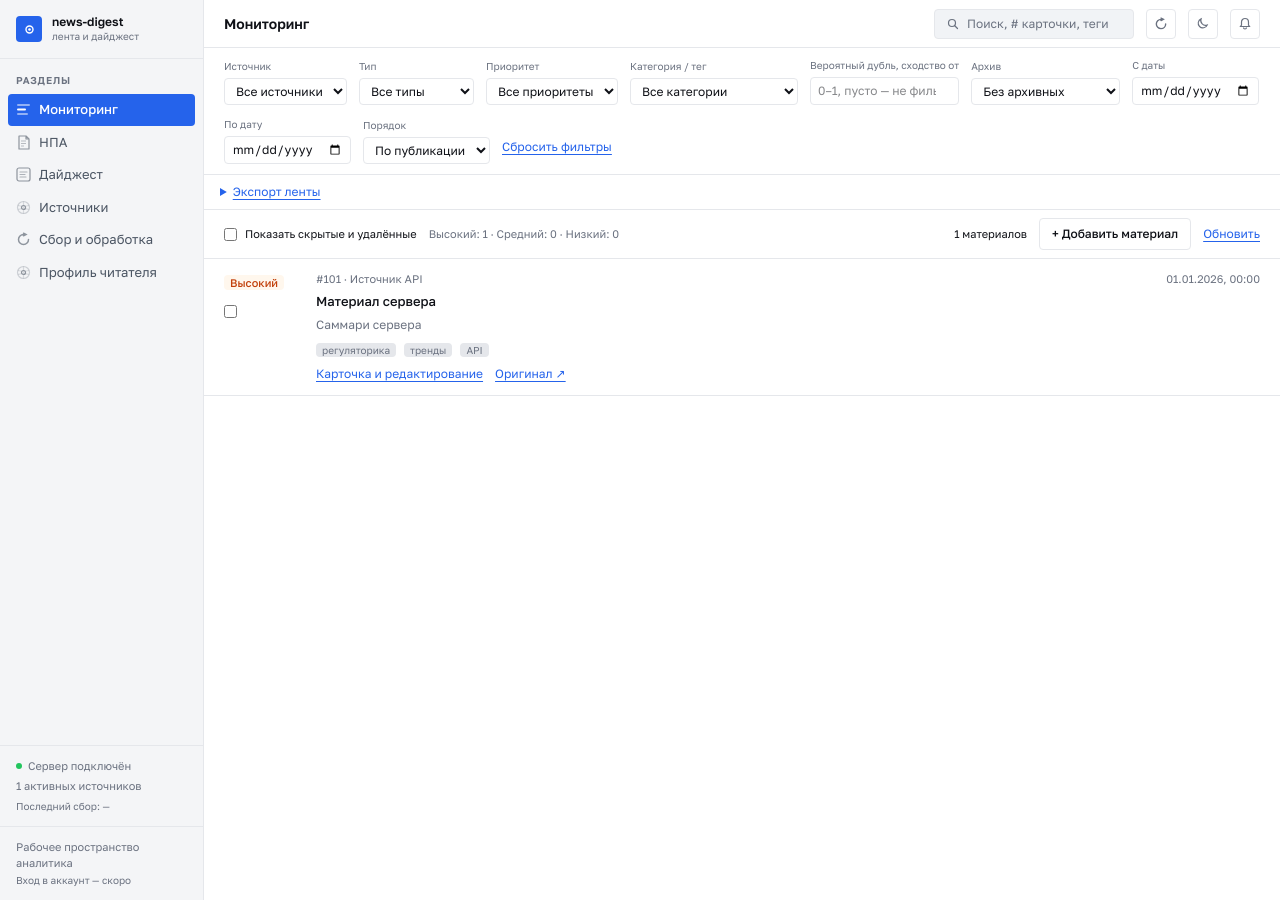
Scenario: server-side feed filters and pagination › does not treat failed bulk updates as successful
Click the checkbox named "Выбрать материал 101": (230, 311) [224, 304, 237, 318]
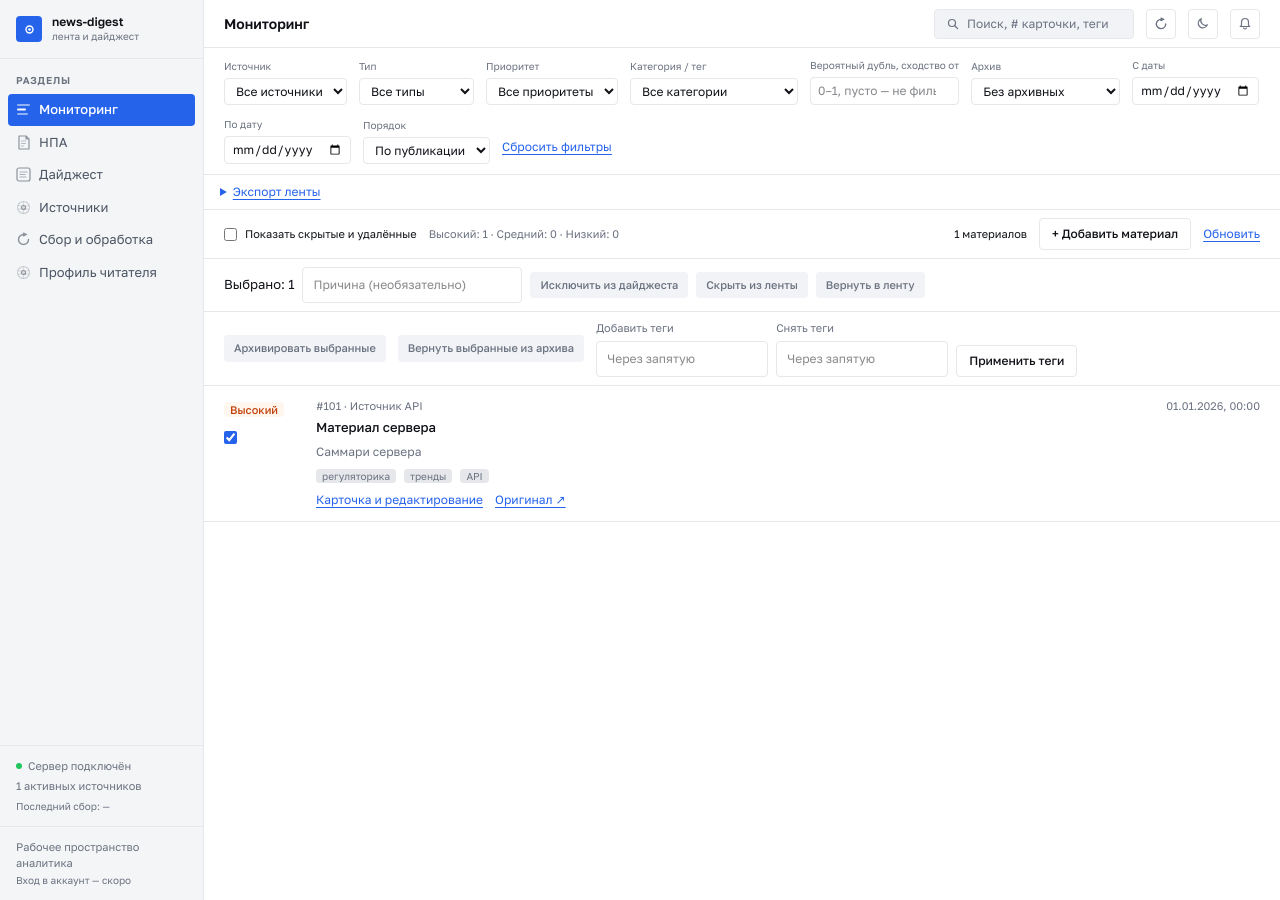
Click the button "Скрыть из ленты": (752, 285) [696, 272, 808, 298]
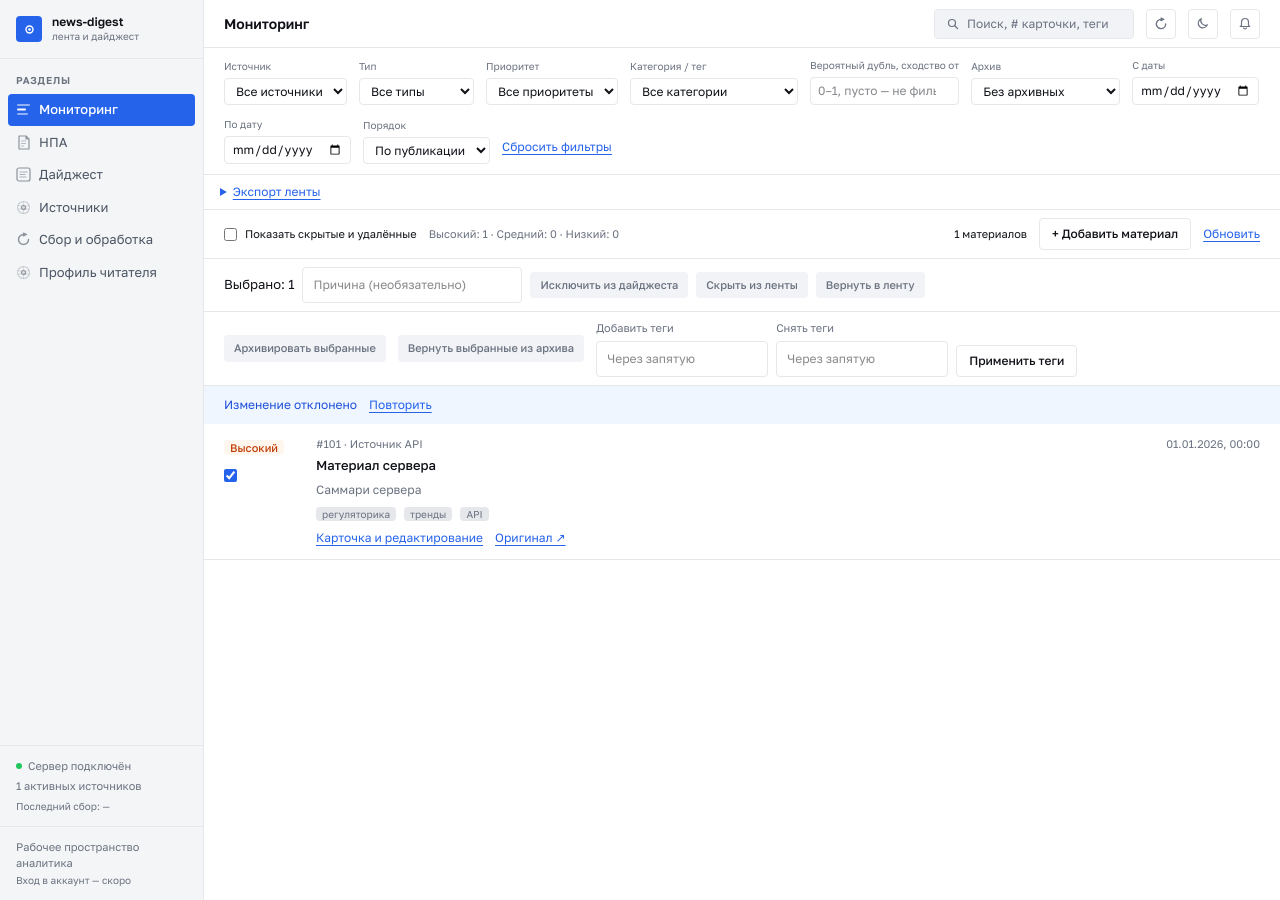
Result: the text "Изменение отклонено" is shown at [224, 396, 357, 412]
